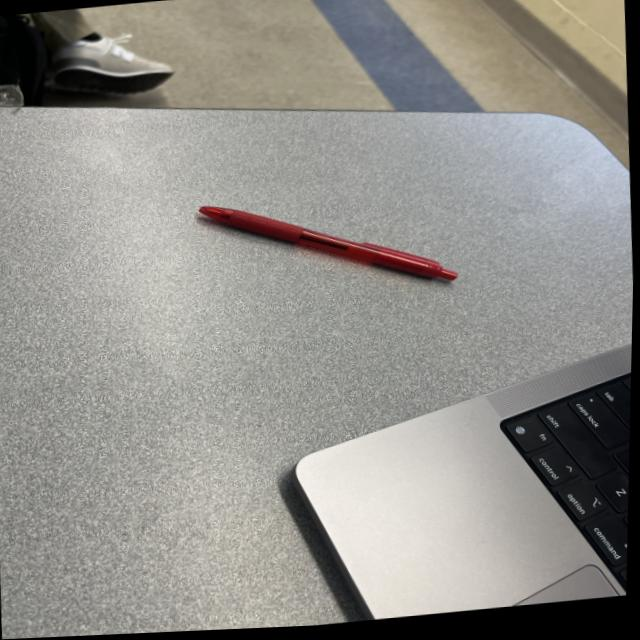pen: (197, 185, 461, 311)
